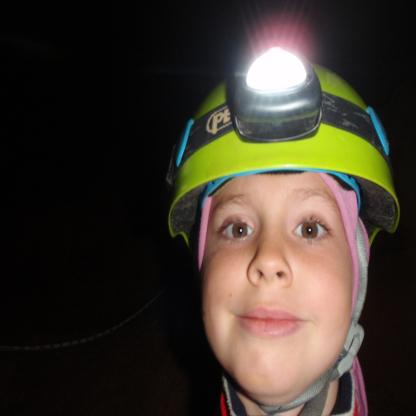Helmet: (164, 70, 391, 376)
